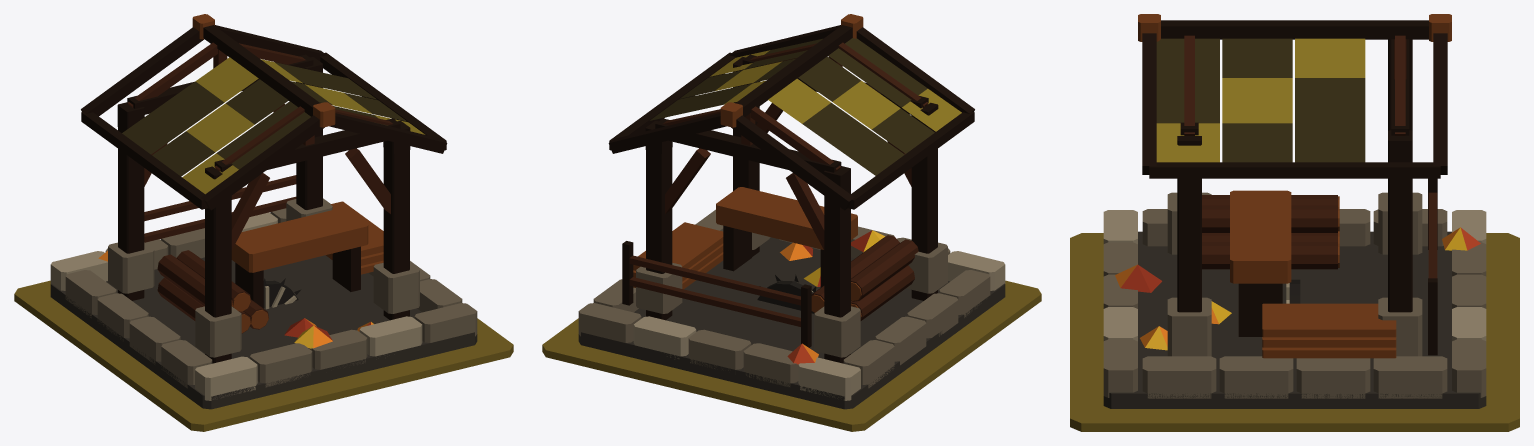
Rendered from sawmill_t2.glb.
3 renders of one model, left to right at view 1: azimuth 30°, elevation 25°; view 2: azimuth 150°, elevation 25°; view 3: azimuth 270°, elevation 25°, orthographic. The views are drawn at different scales.
Visible parts, largest first — view 1: MMR | sawmill | T02 Architecture.001, MMR | sawmill | Tier 02 Ground.001, MMR | sawmill | T02 Header Frame.001, MMR | sawmill | T02 Autumn Dressing.001, MMR | sawmill | T02 Saw Blade.001; view 2: MMR | sawmill | T02 Architecture.001, MMR | sawmill | Tier 02 Ground.001, MMR | sawmill | T02 Header Frame.001, MMR | sawmill | T02 Autumn Dressing.001, MMR | sawmill | T02 Saw Blade.001; view 3: MMR | sawmill | T02 Architecture.001, MMR | sawmill | Tier 02 Ground.001, MMR | sawmill | T02 Header Frame.001, MMR | sawmill | T02 Autumn Dressing.001.
Part boxes in pixels (bbox=[...]): MMR | sawmill | T02 Architecture.001: bbox=[50, 14, 477, 409]; MMR | sawmill | Tier 02 Ground.001: bbox=[14, 280, 513, 431]; MMR | sawmill | T02 Header Frame.001: bbox=[117, 42, 410, 179]; MMR | sawmill | T02 Autumn Dressing.001: bbox=[98, 251, 373, 348]; MMR | sawmill | T02 Saw Blade.001: bbox=[263, 278, 301, 309]; MMR | sawmill | T02 Architecture.001: bbox=[578, 14, 1005, 409]; MMR | sawmill | Tier 02 Ground.001: bbox=[542, 280, 1041, 431]; MMR | sawmill | T02 Header Frame.001: bbox=[645, 42, 938, 192]; MMR | sawmill | T02 Autumn Dressing.001: bbox=[780, 230, 885, 364]; MMR | sawmill | T02 Saw Blade.001: bbox=[757, 274, 816, 313]; MMR | sawmill | T02 Architecture.001: bbox=[1103, 14, 1486, 408]; MMR | sawmill | Tier 02 Ground.001: bbox=[1070, 233, 1519, 431]; MMR | sawmill | T02 Header Frame.001: bbox=[1177, 35, 1412, 162]; MMR | sawmill | T02 Autumn Dressing.001: bbox=[1115, 227, 1480, 350].
Size of the model in its own units: 2.35 by 2.09 by 2.35.
1 material, 1 textured.
